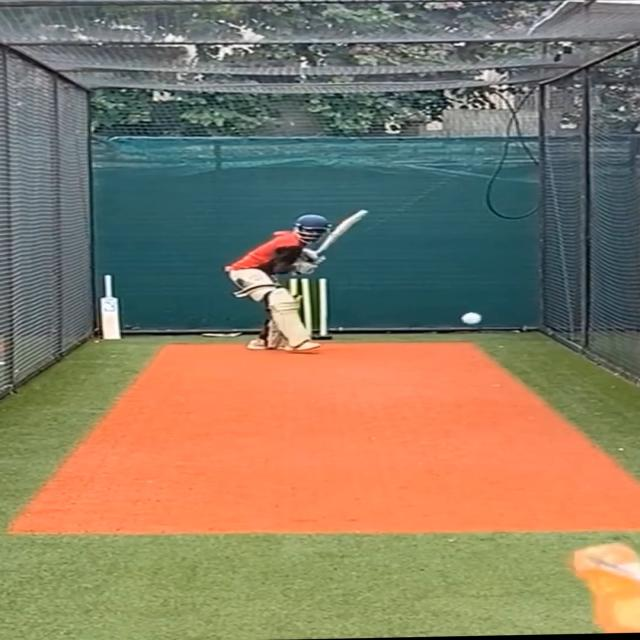ball: (456, 309, 486, 326)
stump: (282, 276, 332, 340)
